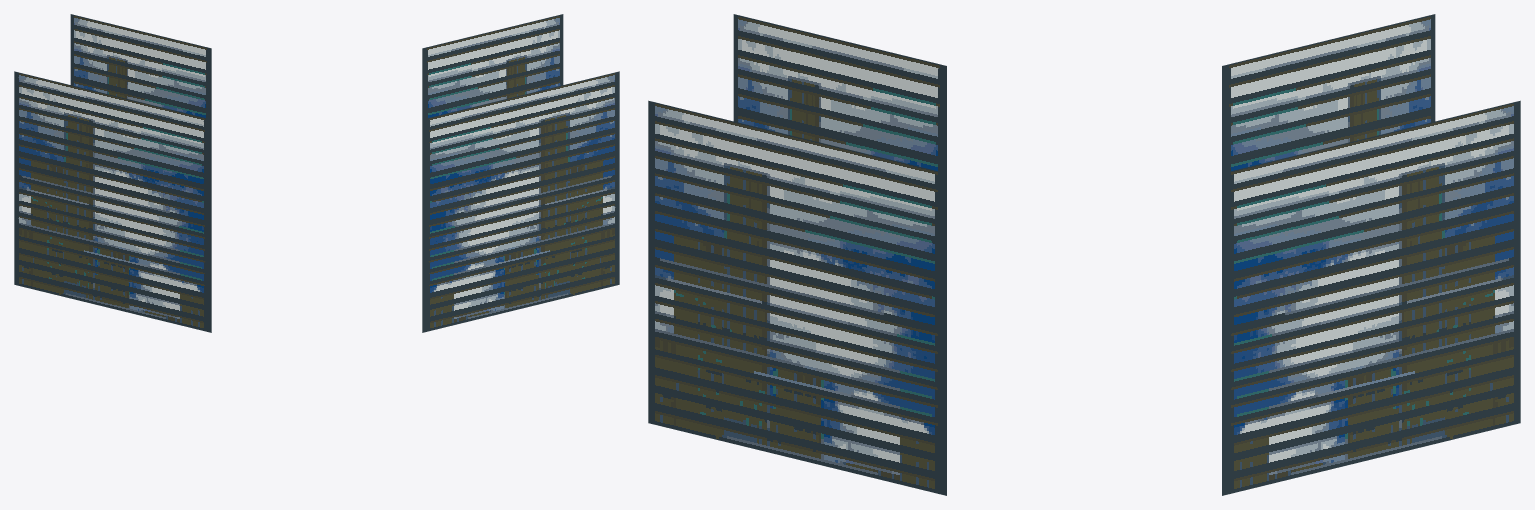
The picture shows the model from 3 angles, left to right: view 1: azimuth 30°, elevation 25°; view 2: azimuth 150°, elevation 25°; view 3: azimuth 270°, elevation 25°; orthographic projection. The views are drawn at different scales.
Visible parts, largest first — view 1: obj-63; view 2: obj-63; view 3: obj-63.
Part boxes in pixels (bbox=[...]): obj-63: bbox=[14, 14, 211, 332]; obj-63: bbox=[422, 14, 619, 332]; obj-63: bbox=[648, 14, 1520, 495].
Size of the model in its own units: 2.34 by 6.43 by 11.82.
Materials: 1 (1 with a texture image).
